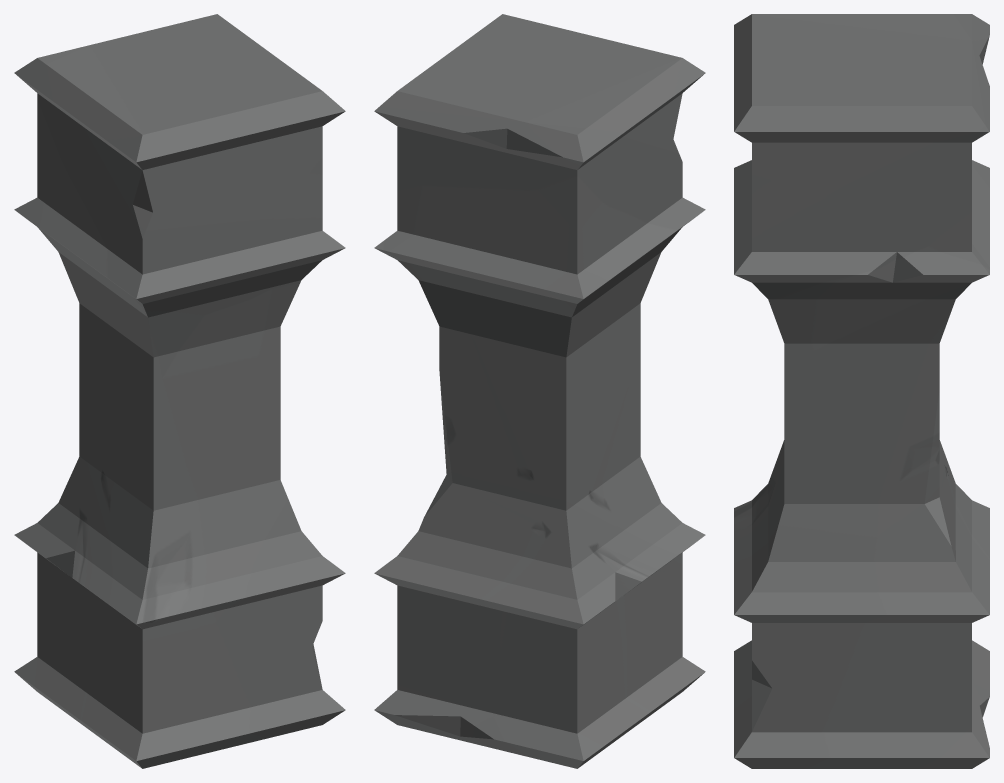
File: SM_Bld_L_Pillar_Half_03.fbx
3 renders of one model, left to right at view 1: azimuth 30°, elevation 25°; view 2: azimuth 150°, elevation 25°; view 3: azimuth 270°, elevation 25°, orthographic. The views are drawn at different scales.
Parts seen in each view (by area): view 1: SM_Bld_L_Pillar_Half_03; view 2: SM_Bld_L_Pillar_Half_03; view 3: SM_Bld_L_Pillar_Half_03.
Part boxes in pixels (x1=…): SM_Bld_L_Pillar_Half_03: x1=14, y1=14, x2=345, y2=768; SM_Bld_L_Pillar_Half_03: x1=374, y1=14, x2=705, y2=768; SM_Bld_L_Pillar_Half_03: x1=734, y1=14, x2=989, y2=768.
Size of the model in its own units: 51.89 by 150 by 52.44.
